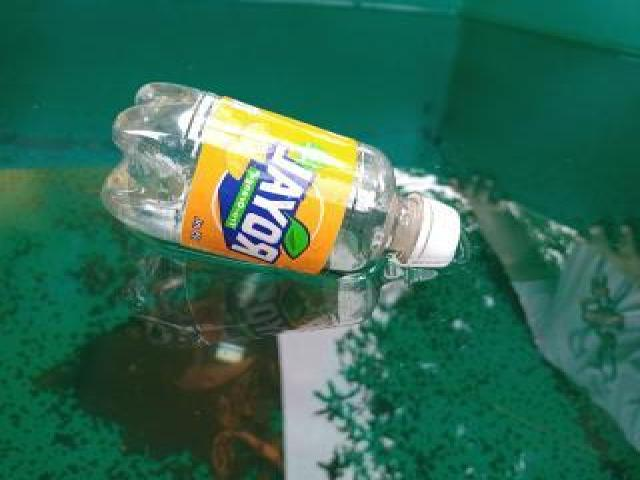Bottle: (91, 79, 474, 280)
